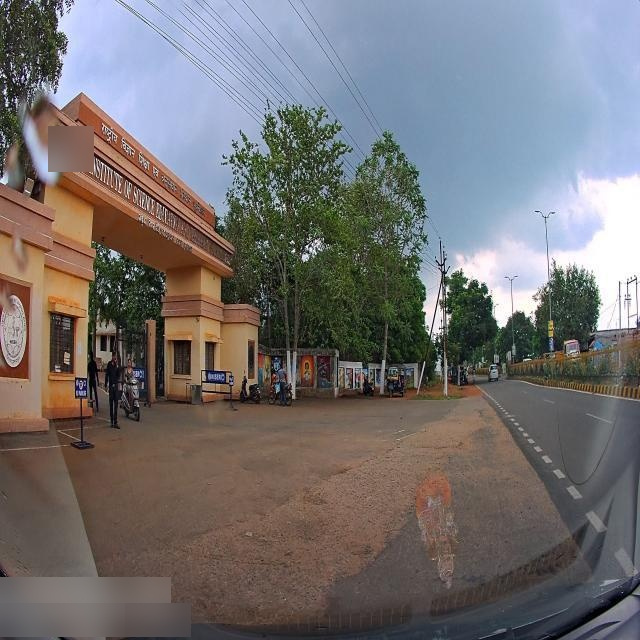pothole: (336, 464, 354, 476)
